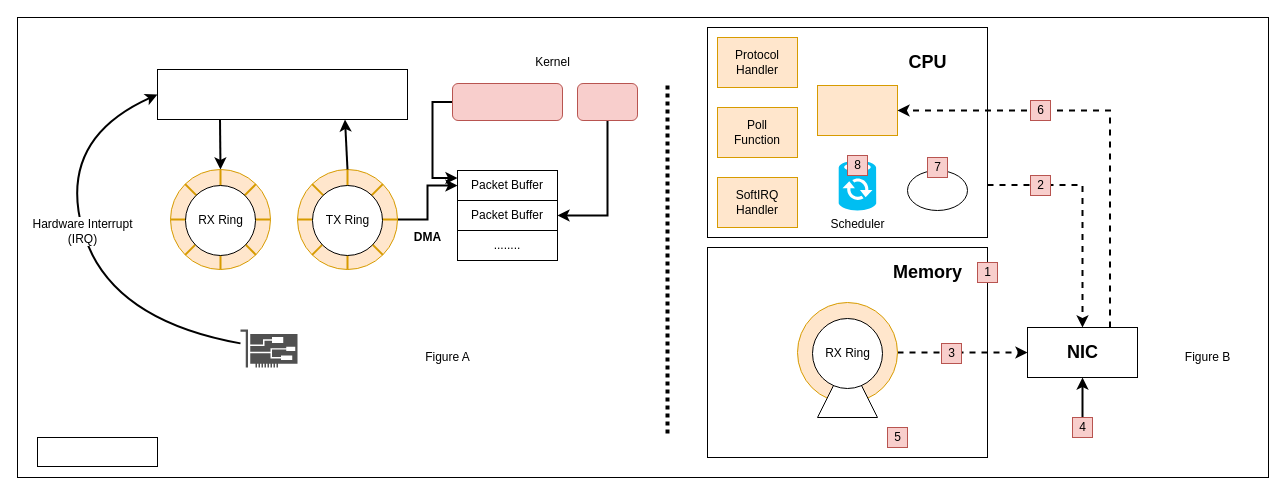
This 1286x495 diagram has some shape labels left out. The shapes that lost their labels are listed below. From the top down, each one's centre as x and y in pixels, then its label:
At point (282, 94): "NIC Kernel Driver".
At point (507, 101): "sk_buff (Socket Buffer)".
At point (607, 101): "qdisc".
At point (857, 110): "Interrupt Service Routine".
At point (937, 190): "SoftIRQ".
At point (847, 397): "Packet".
At point (97, 451): "Network Stack Flow".
